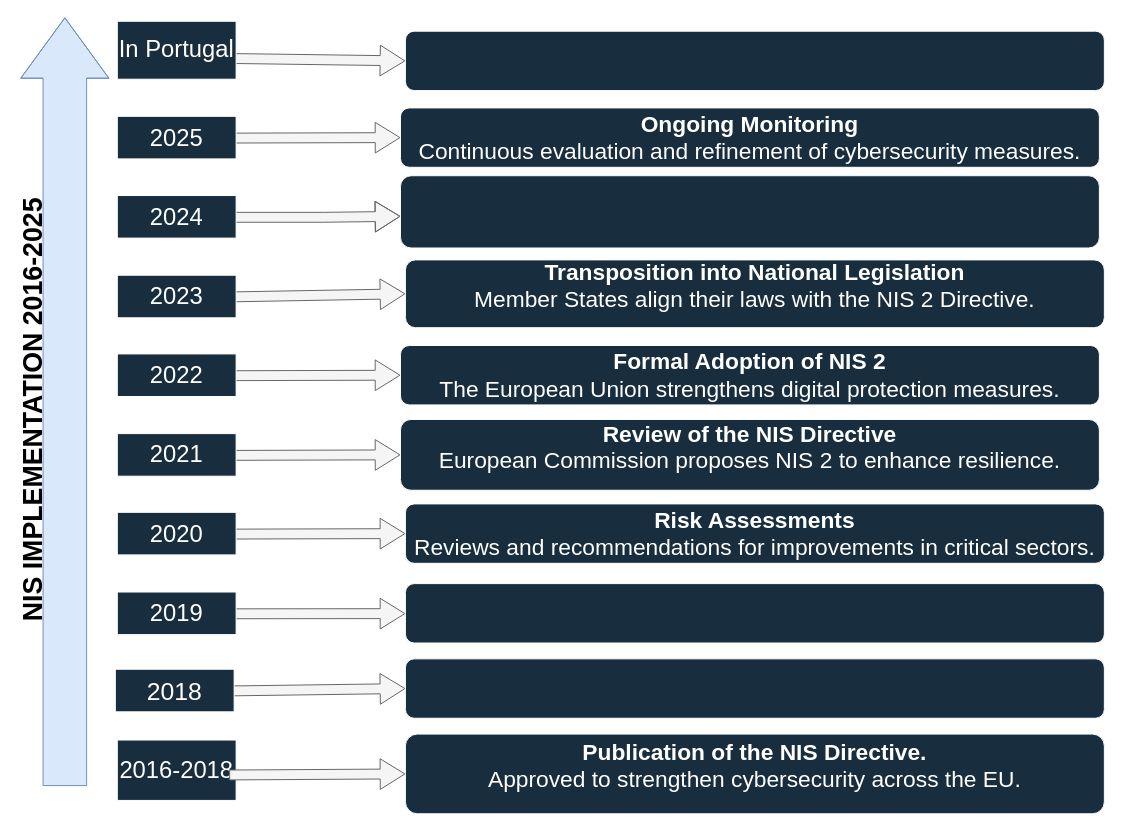
This 1122x831 diagram has some shape labels left out. Each missing label, with the box of its shape:
Adaptation : Member States begin adaptation processes.: (404, 658, 1104, 718)
Adaptation : Portugal begin adaptation processes this year.: (404, 30, 1104, 91)
Final Implementation Deadline Full enforcement with stricter measures in place.: (399, 175, 1099, 248)
Mandatory Compliance Essential Service Providers required to meet NIS standards.: (404, 583, 1104, 643)
